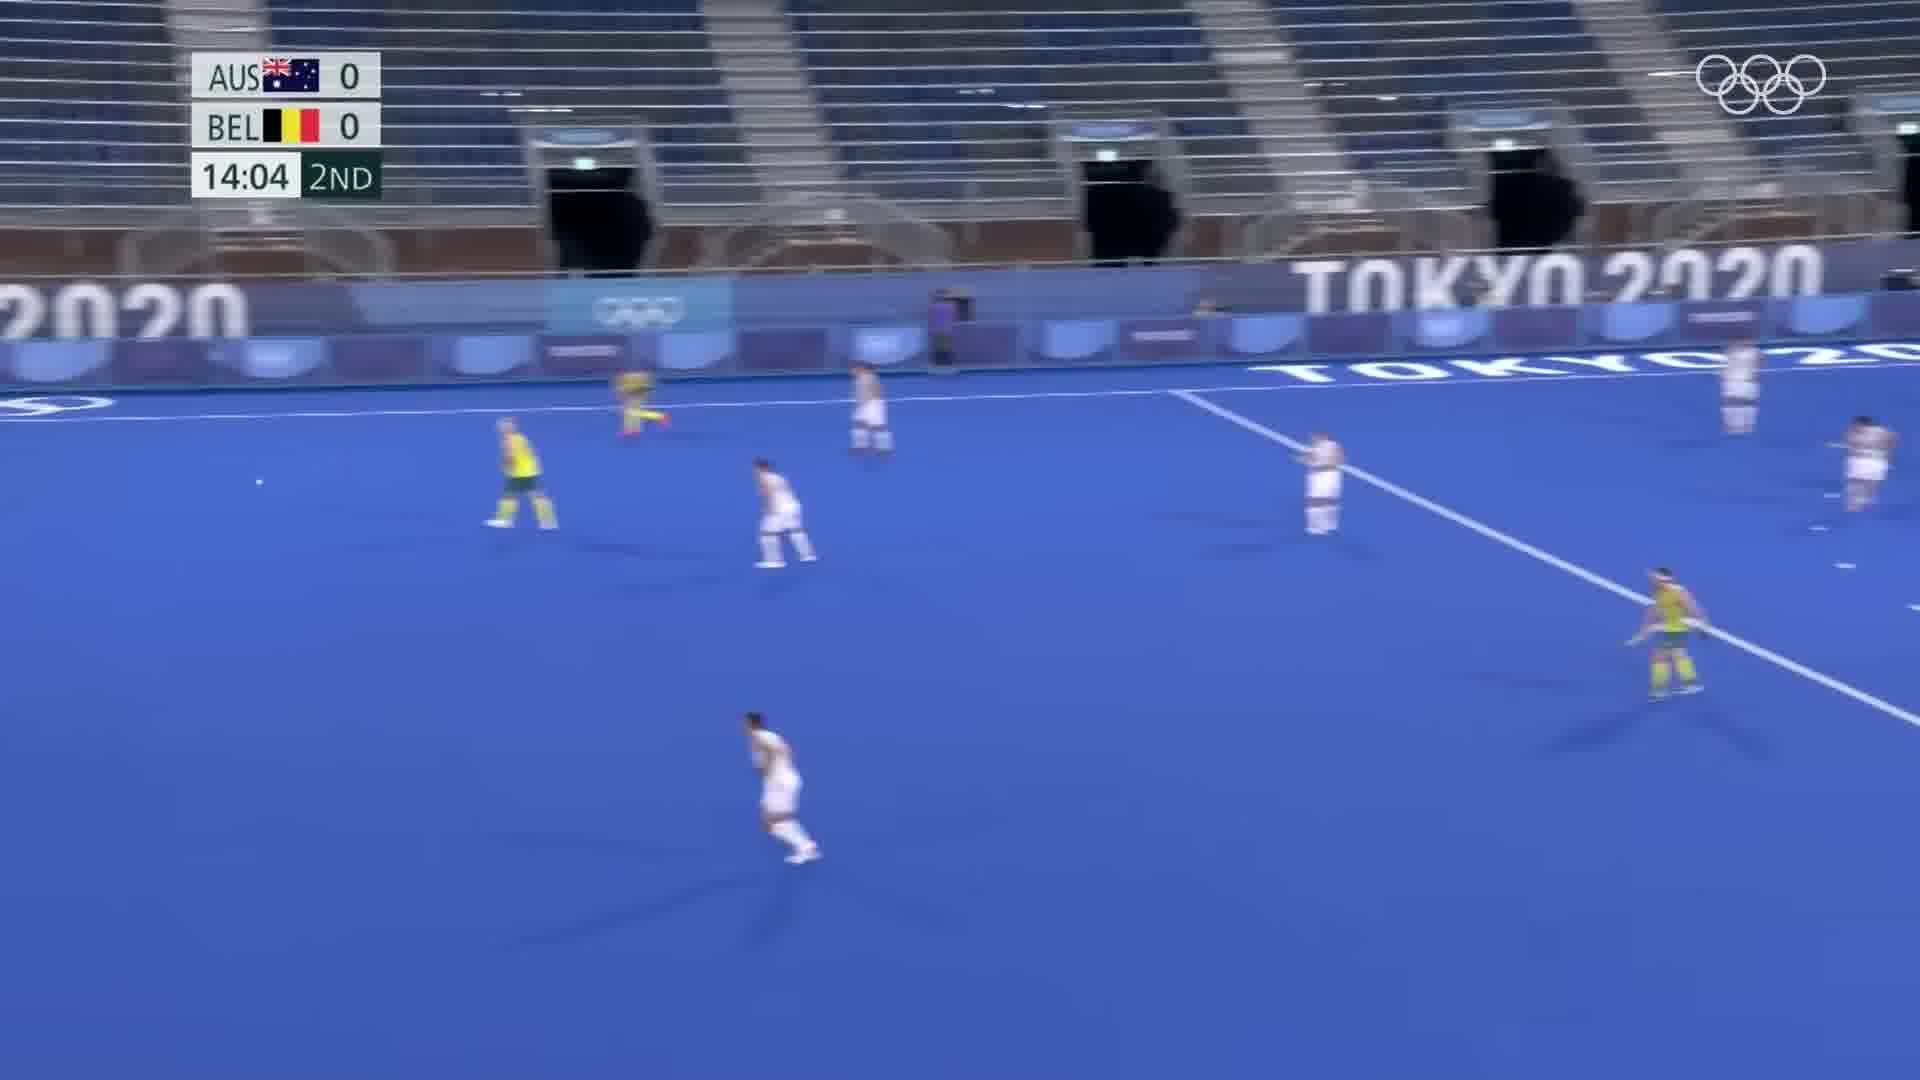ball: (251, 473, 266, 491)
